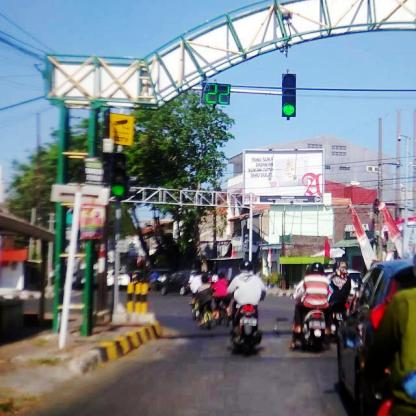Traffic Light -Green-: (110, 153, 126, 199), (282, 73, 296, 117)
